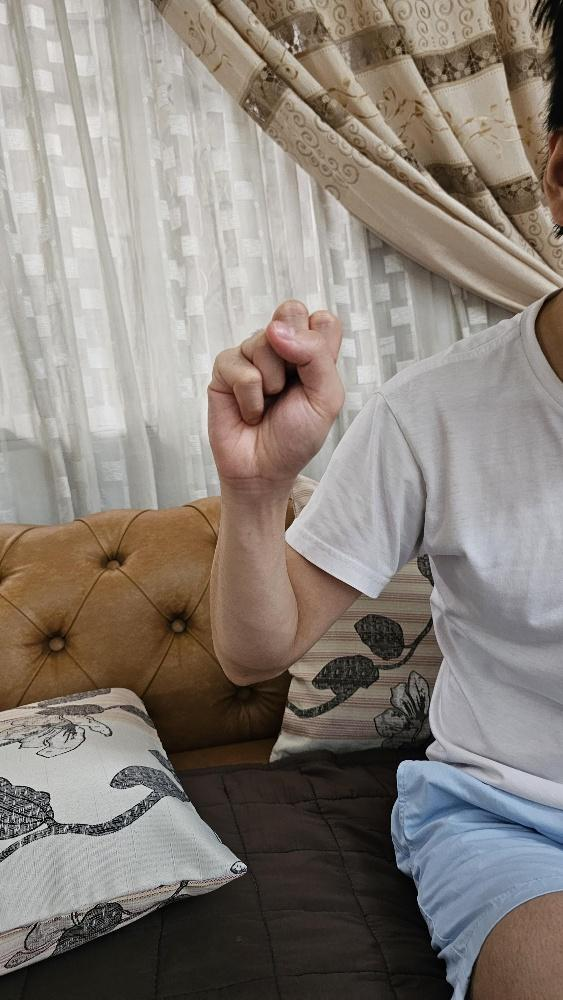s: (204, 296, 348, 483)
